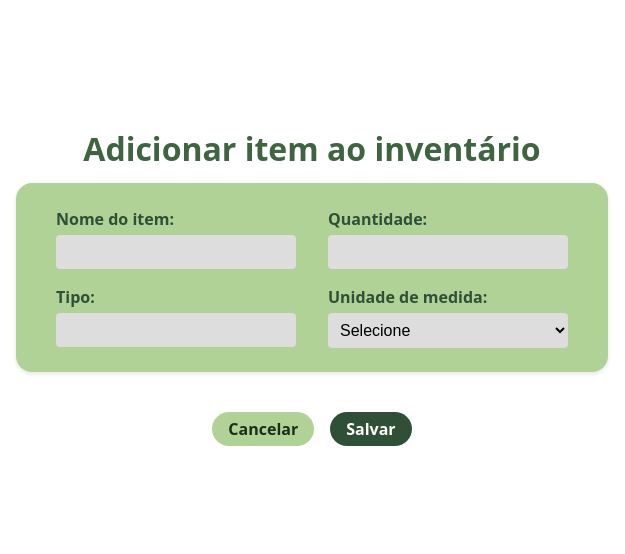
InventoryCreate › exibe erro ao tentar submeter sem preencher todos os campos
The width and height of the screenshot is (625, 554).
Click the button "Salvar" at (371, 429), box left=330, top=412, right=412, bottom=446
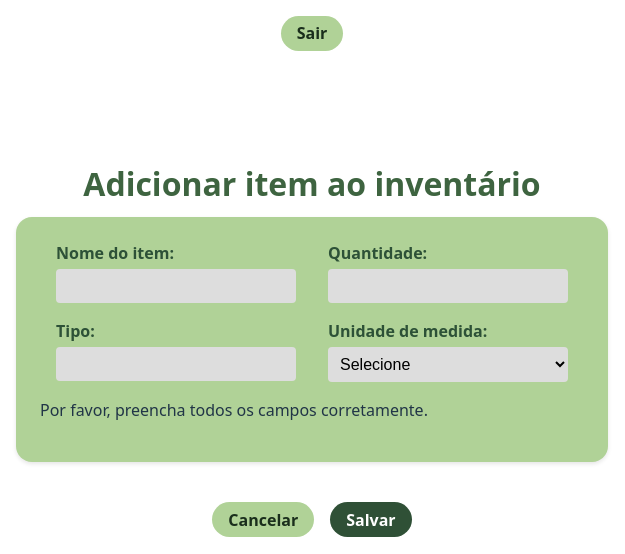
Expected: the text "Por favor, preencha todos os campos corretamente." is shown, left=40, top=399, right=428, bottom=421
